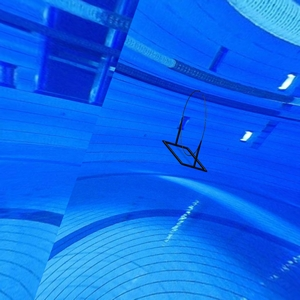circle: (161, 86, 211, 175)
